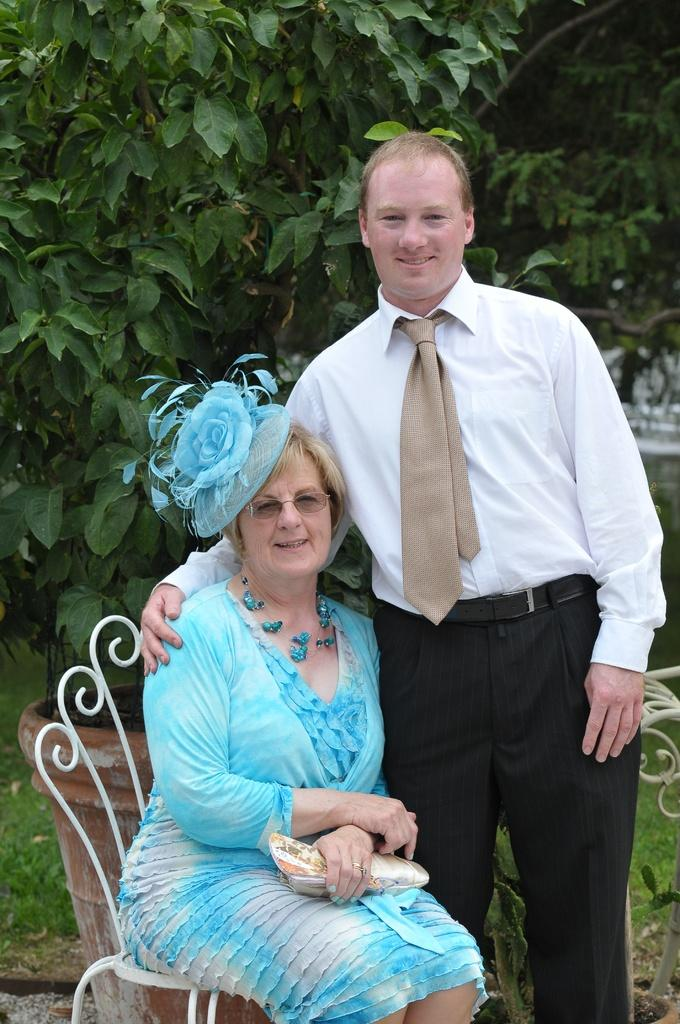Hat: (121, 352, 290, 540)
